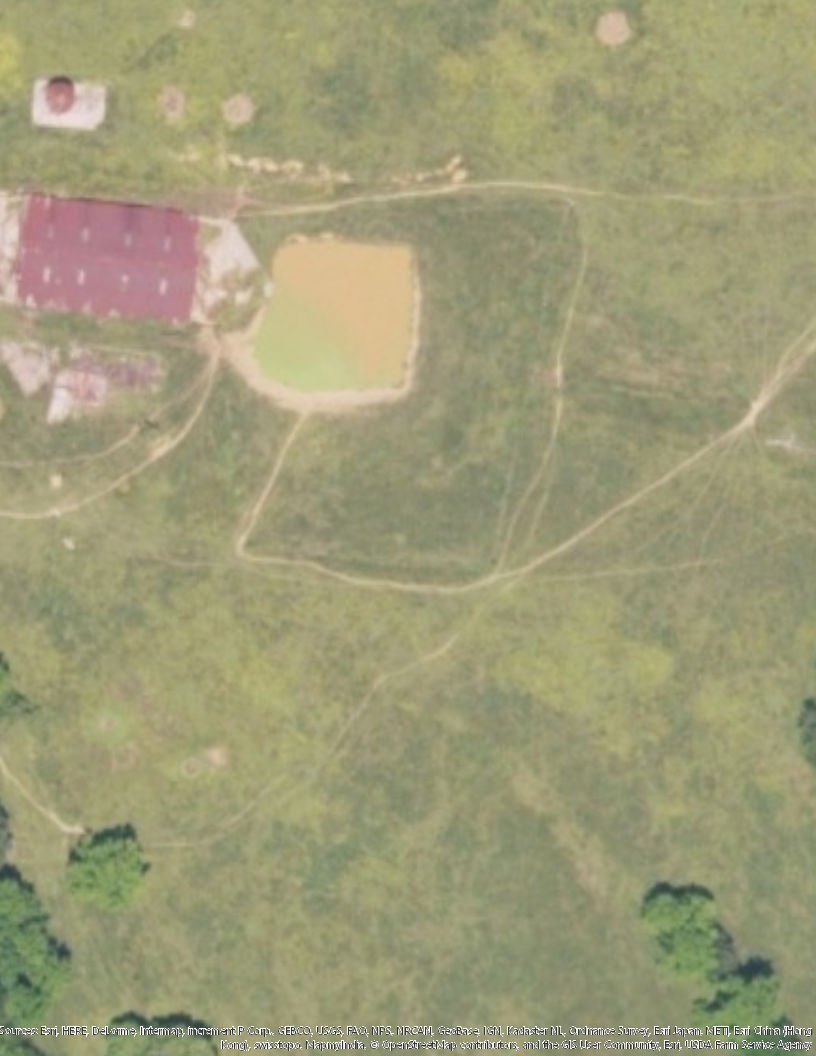cafo: (4, 193, 212, 327)
